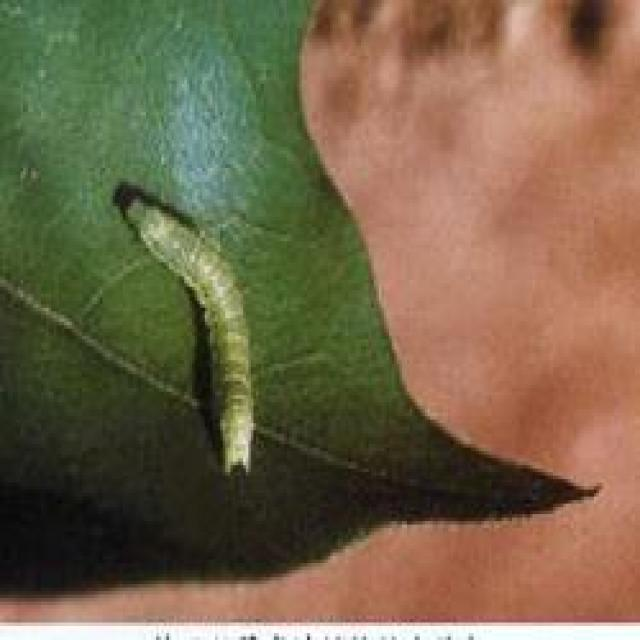BeetArmyWorm-Larva-: (118, 184, 274, 487)
